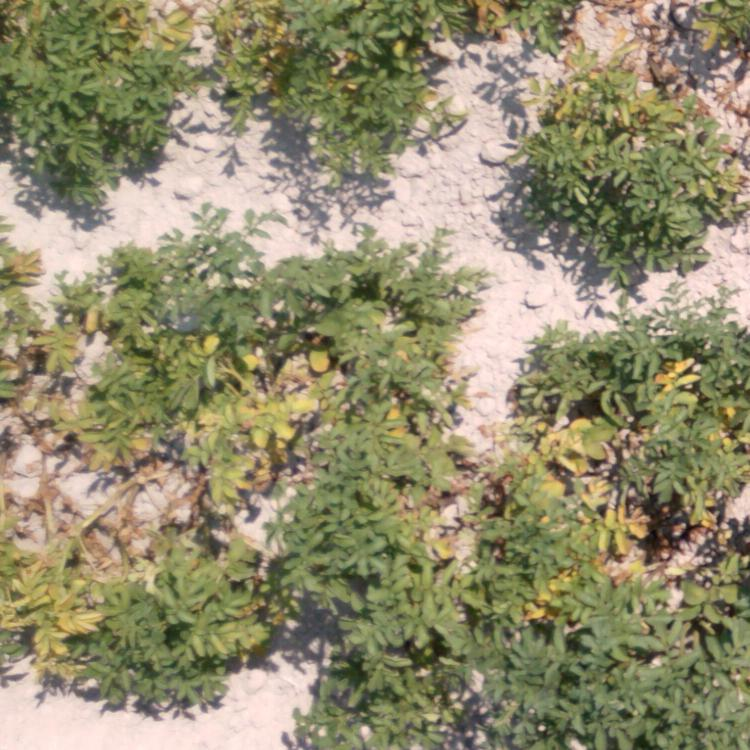healthy: (505, 633, 746, 750), (331, 582, 491, 738), (141, 240, 446, 321), (532, 142, 666, 257), (13, 11, 127, 141), (305, 1, 407, 138), (304, 437, 390, 565)
stressed: (528, 342, 729, 510), (140, 323, 396, 444), (96, 519, 260, 682), (505, 520, 741, 627), (1, 248, 124, 414), (408, 340, 473, 558), (135, 7, 283, 96), (556, 75, 748, 130), (6, 524, 74, 672), (119, 442, 247, 508), (636, 4, 747, 66), (443, 3, 579, 53), (673, 146, 737, 235)
